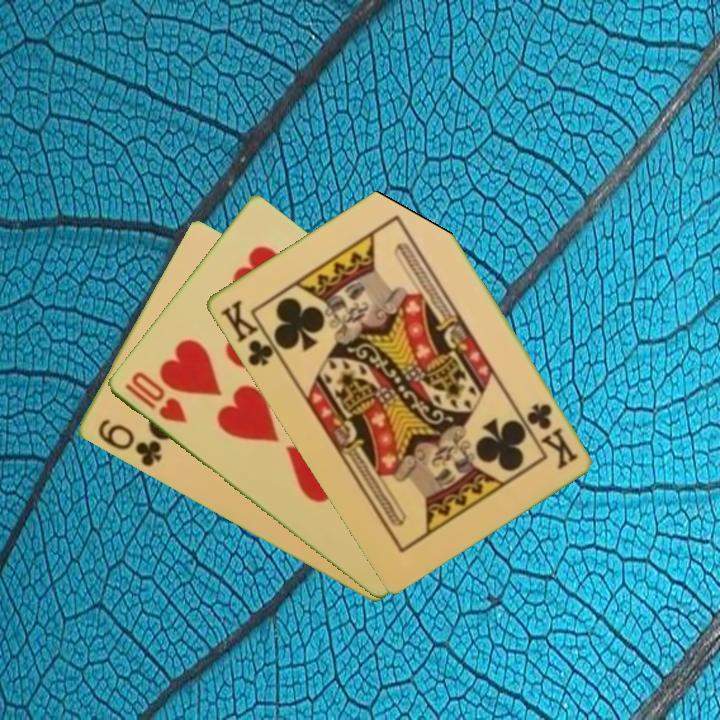10h: (120, 368, 190, 427)
6c: (93, 416, 165, 470)
Kc: (216, 295, 283, 369), (522, 399, 581, 472)
